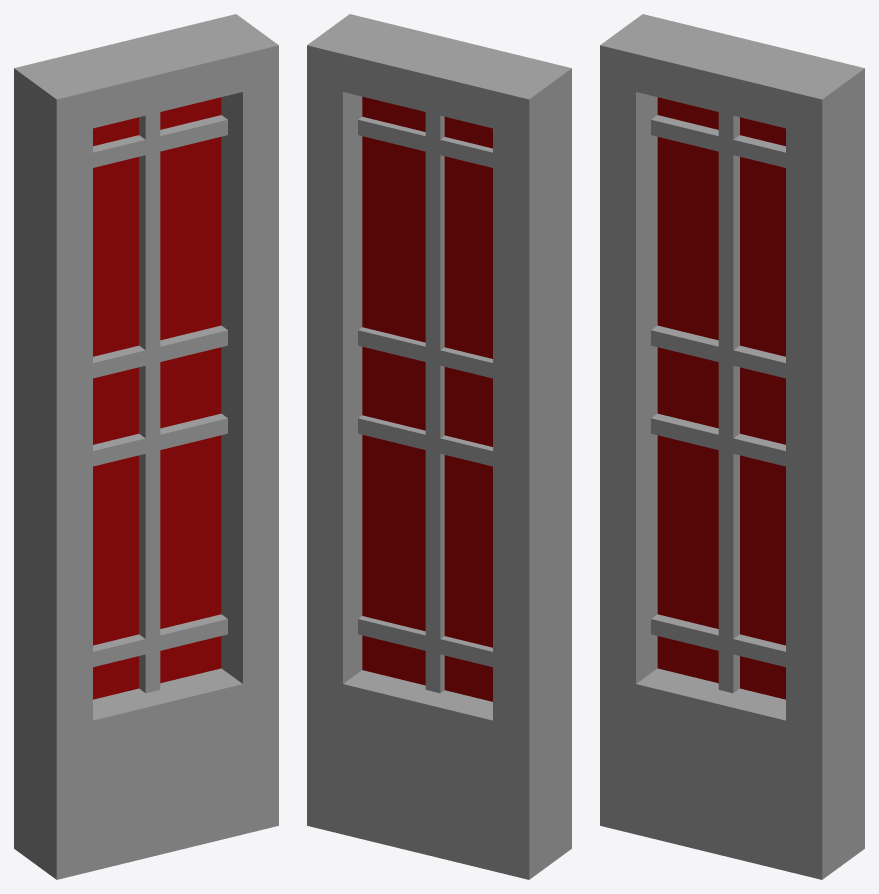
3 views of the same model, side by side, from view 1: azimuth 30°, elevation 25°; view 2: azimuth 150°, elevation 25°; view 3: azimuth 330°, elevation 25° (orthographic).
Parts seen in each view (by area): view 1: PL_R; view 2: PL_R; view 3: PL_R.
Boxes of the visible parts, x1=… form: PL_R: x1=14, y1=14, x2=278, y2=879; PL_R: x1=307, y1=14, x2=571, y2=879; PL_R: x1=600, y1=14, x2=864, y2=879.
Bounding box in the file's own units: 67.69 × 227 × 22.58.
